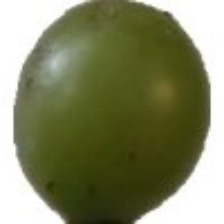grapes: (8, 0, 203, 200)
